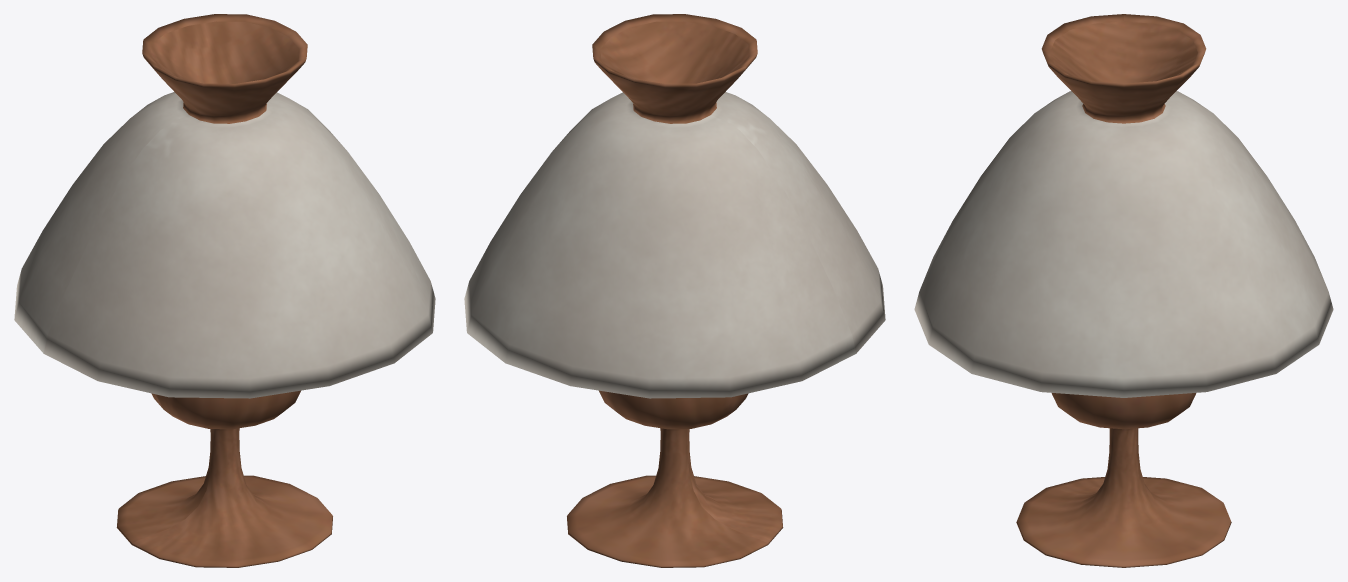
The model's file is Abajur.fbx.
The picture shows the model from 3 angles, left to right: view 1: azimuth 30°, elevation 25°; view 2: azimuth 150°, elevation 25°; view 3: azimuth 270°, elevation 25°; orthographic projection.
Visible parts, largest first — view 1: Abajur; view 2: Abajur; view 3: Abajur.
Part boxes in pixels (<box>): Abajur: <box>14,14,435,567</box>; Abajur: <box>464,14,885,567</box>; Abajur: <box>914,14,1333,567</box>.
Bounding box in the file's own units: 17.47 × 21.97 × 17.47.
Materials: 1 (1 with a texture image).
